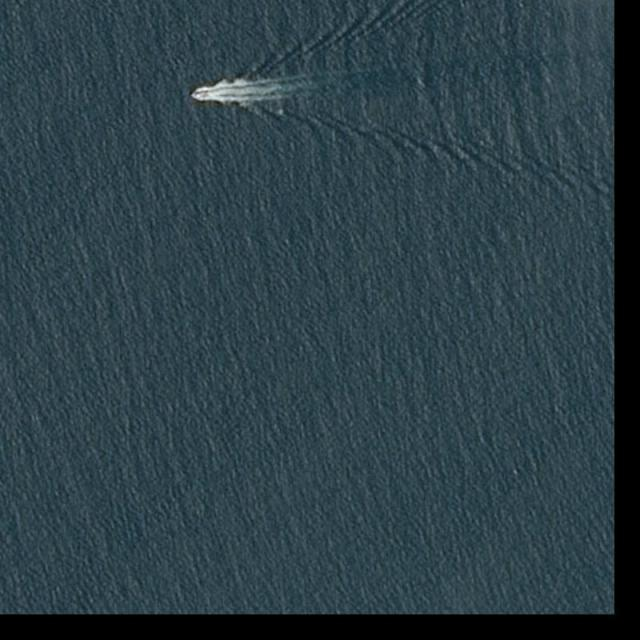ship: (191, 91, 208, 98)
